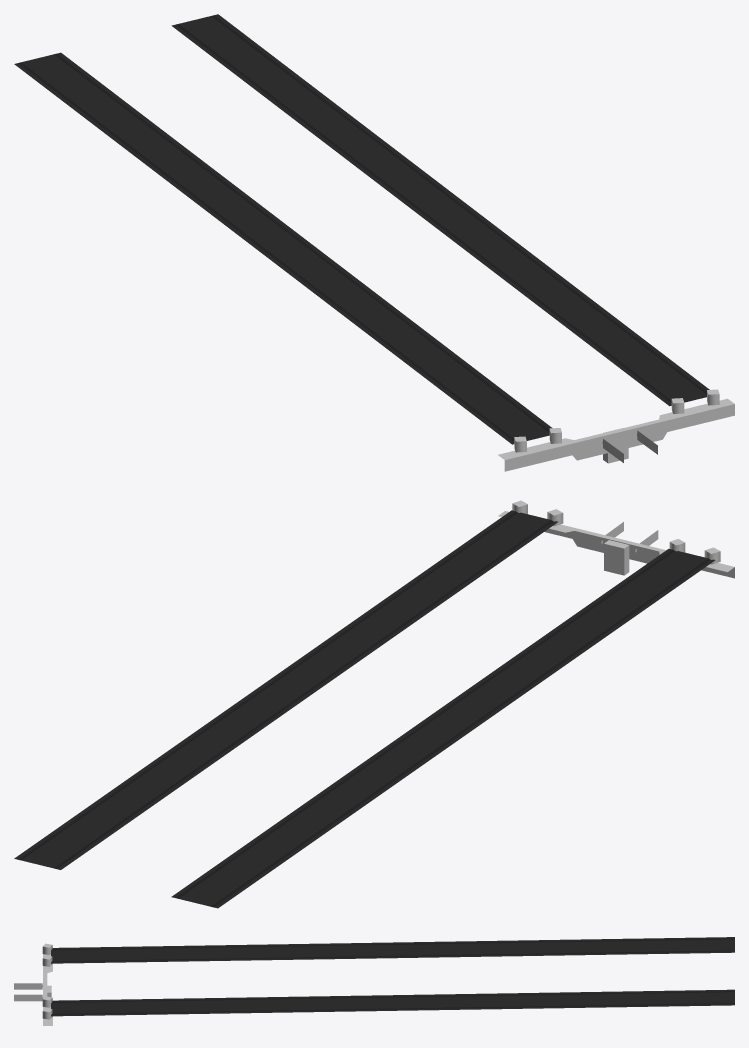
The model's file is Power_pole_cableBuilding_LOD1.fbx.
3 renders of one model, top to bottom at view 1: azimuth 30°, elevation 25°; view 2: azimuth 150°, elevation 25°; view 3: azimuth 270°, elevation 25°, orthographic. The views are drawn at different scales.
Parts seen in each view (by area): view 1: polySurface929; view 2: polySurface929; view 3: polySurface929.
Part boxes in pixels (x1=…): polySurface929: x1=14, y1=14, x2=734, y2=471; polySurface929: x1=14, y1=500, x2=734, y2=908; polySurface929: x1=14, y1=937, x2=734, y2=1025.
Size of the model in its own units: 1.38 by 0.3058 by 5.44.
